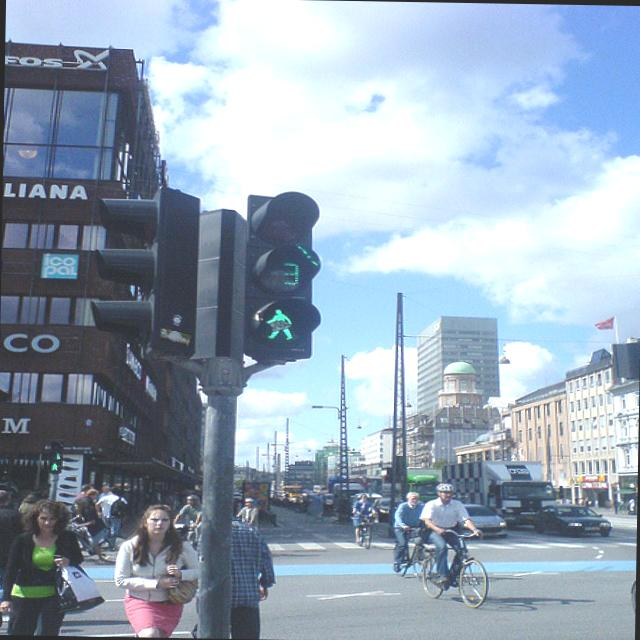Vehicle: (440, 458, 560, 530), (534, 503, 612, 538), (458, 504, 508, 538), (406, 474, 442, 504), (371, 498, 402, 516), (354, 490, 384, 508), (324, 492, 334, 508)
